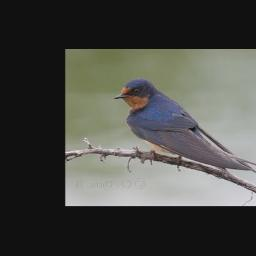Swallow: (113, 77, 256, 174)
